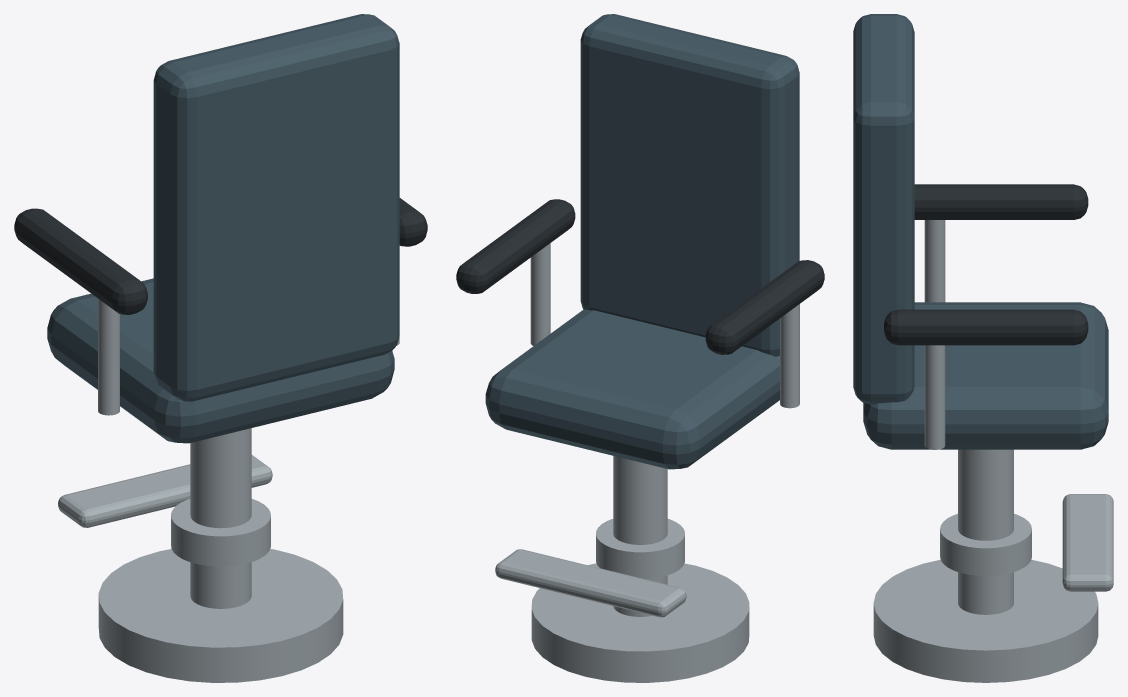
Rendered from helm_chair.glb.
3 renders of one model, left to right at view 1: azimuth 30°, elevation 25°; view 2: azimuth 150°, elevation 25°; view 3: azimuth 270°, elevation 25°, orthographic. The views are drawn at different scales.
Visible parts, largest first — view 1: Back cushion, Deck foot, Seat cushion, Pedestal, Arm rest, Footrest, Footrest hub, Arm support, Arm rest.001; view 2: Back cushion, Seat cushion, Deck foot, Footrest, Pedestal, Arm rest.001, Arm rest, Footrest hub, Arm support, Arm support.001; view 3: Back cushion, Seat cushion, Deck foot, Arm rest.001, Pedestal, Arm rest, Footrest, Footrest hub, Arm support.001, Arm support.
Part boxes in pixels (<box>): Back cushion: <box>153,14,399,401</box>; Deck foot: <box>98,549,343,682</box>; Seat cushion: <box>47,278,394,443</box>; Pedestal: <box>190,428,251,608</box>; Arm rest: <box>14,208,147,314</box>; Footrest: <box>58,455,272,527</box>; Footrest hub: <box>171,499,270,566</box>; Arm support: <box>98,299,119,415</box>; Arm rest.001: <box>399,198,427,246</box>; Back cushion: <box>580,14,799,356</box>; Seat cushion: <box>485,309,779,469</box>; Deck foot: <box>531,563,749,682</box>; Footrest: <box>495,549,686,617</box>; Pedestal: <box>613,456,667,616</box>; Arm rest.001: <box>456,199,575,293</box>; Arm rest: <box>705,260,824,354</box>; Footrest hub: <box>596,519,684,579</box>; Arm support: <box>780,304,799,408</box>; Arm support.001: <box>530,243,550,345</box>; Back cushion: <box>853,14,914,404</box>; Seat cushion: <box>863,302,1108,449</box>; Deck foot: <box>873,559,1098,682</box>; Arm rest.001: <box>884,309,1088,345</box>; Pedestal: <box>958,449,1013,614</box>; Arm rest: <box>914,184,1088,219</box>; Footrest: <box>1062,494,1113,591</box>; Footrest hub: <box>940,513,1031,575</box>; Arm support.001: <box>924,345,945,449</box>; Arm support: <box>924,220,945,302</box>.
Bounding box in the file's own units: 0.65 × 1.25 × 0.51.
